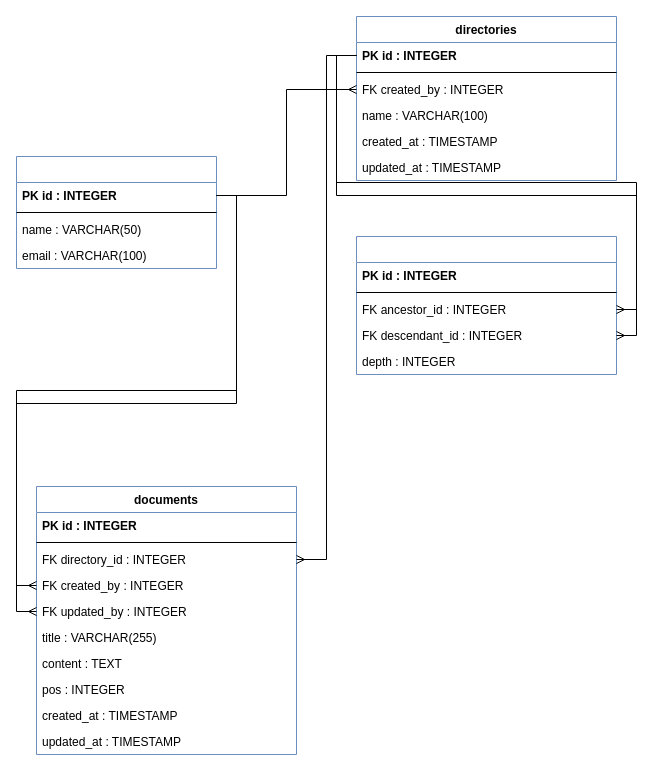
Image size: 653x771. Some labels were removed from this diagram. The box of each missing label's shape, as (x1, y1, x2, y2) in pixels:
directory_closures: (356, 236, 616, 374)
users: (16, 156, 216, 268)
